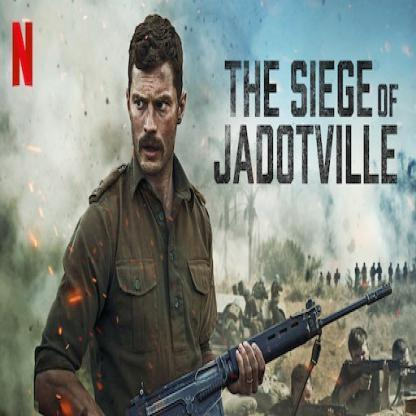Gun: (125, 280, 393, 410)
